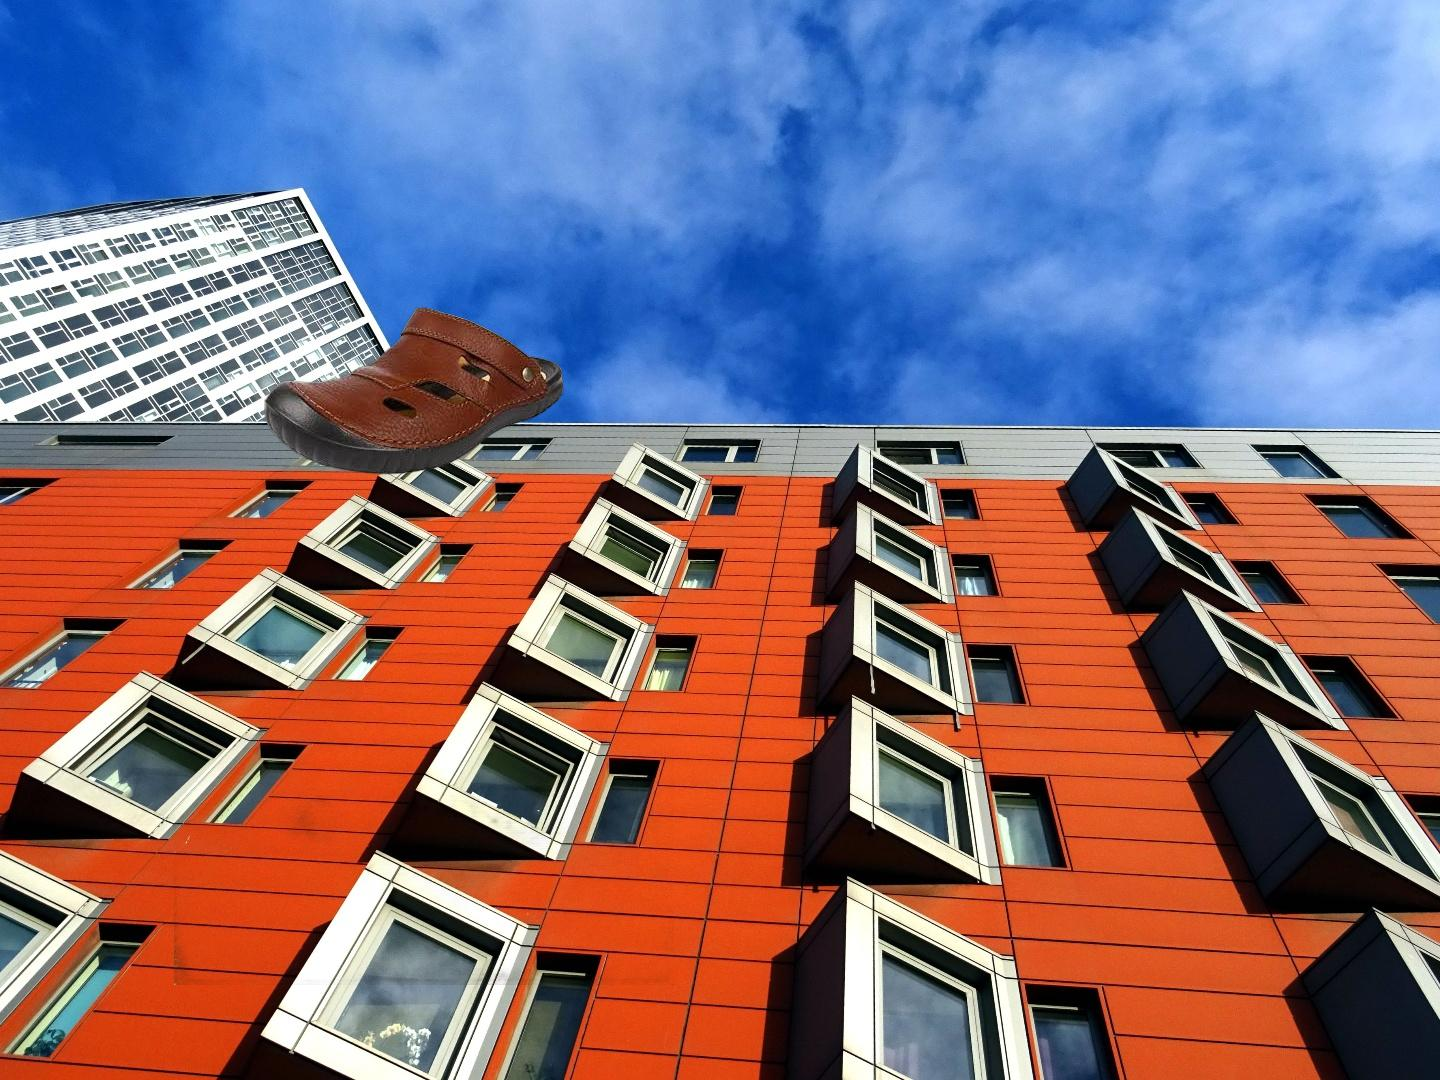shoes: (264, 307, 564, 475)
trashbox-cardboard: (173, 653, 674, 985)
